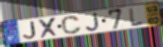7: (107, 7, 125, 31)
C: (60, 15, 83, 35)
J: (85, 12, 101, 32), (23, 21, 38, 40)
L: (128, 7, 146, 26)
X: (38, 17, 60, 40)
